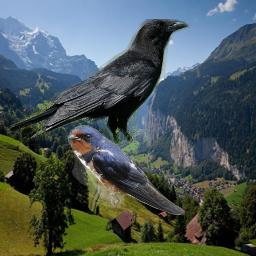Crow: (8, 19, 190, 146)
Swallow: (67, 125, 185, 215)
